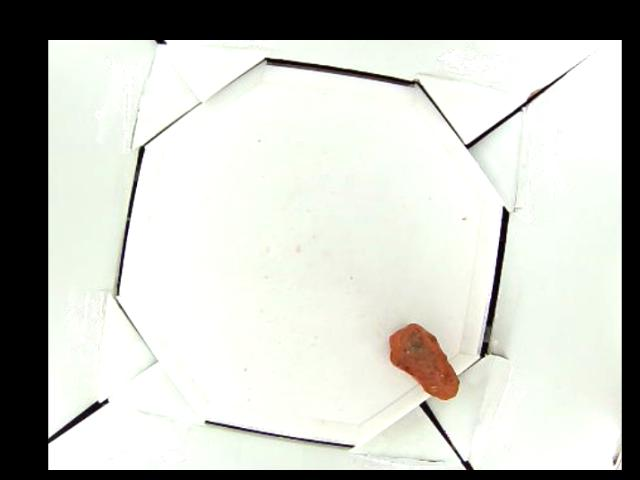Brisk: (387, 324, 463, 398)
